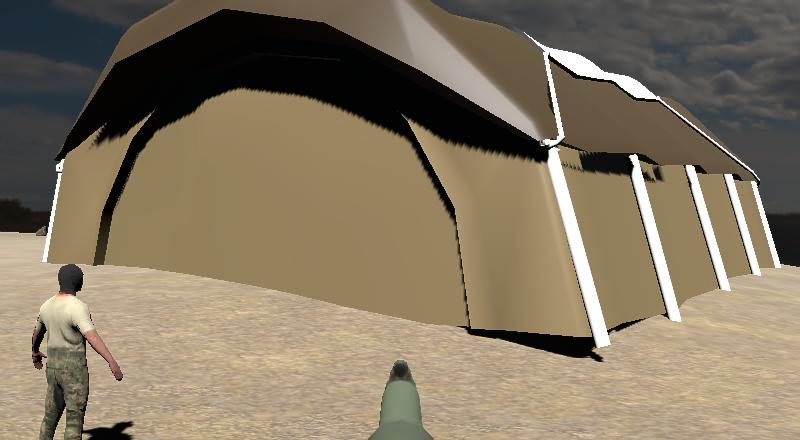Human: (29, 259, 126, 440)
